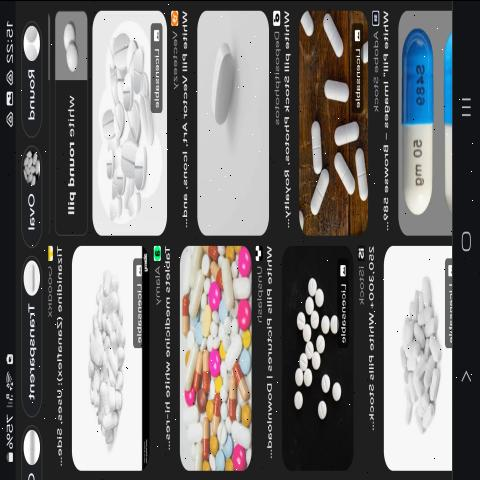Pill: (208, 36, 241, 142), (305, 115, 329, 186), (55, 18, 82, 80), (331, 154, 357, 218), (319, 14, 349, 68), (317, 71, 356, 112), (309, 166, 331, 224), (330, 120, 362, 158), (326, 376, 343, 421), (314, 400, 336, 423)
